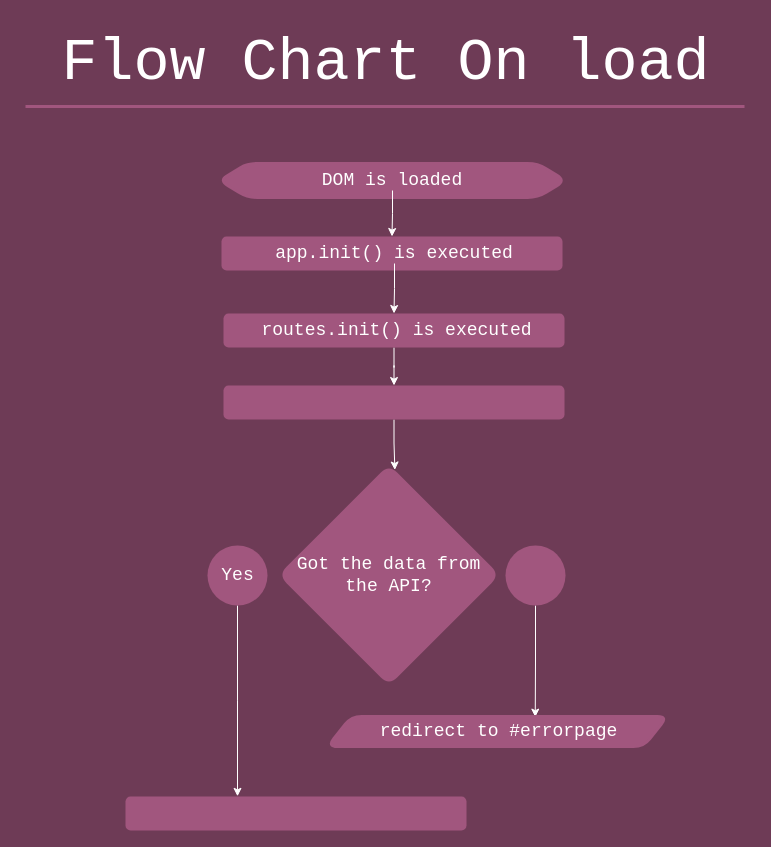
Some shapes in this 771 by 847 pixel diagram are drawn without their labels. The box of each missing label's shape, as (x1, y1, x2, y2) in pixels:
get.data() is executed: (223, 385, 564, 419)
map.data() is executed: (125, 796, 466, 830)
No: (505, 545, 565, 605)
